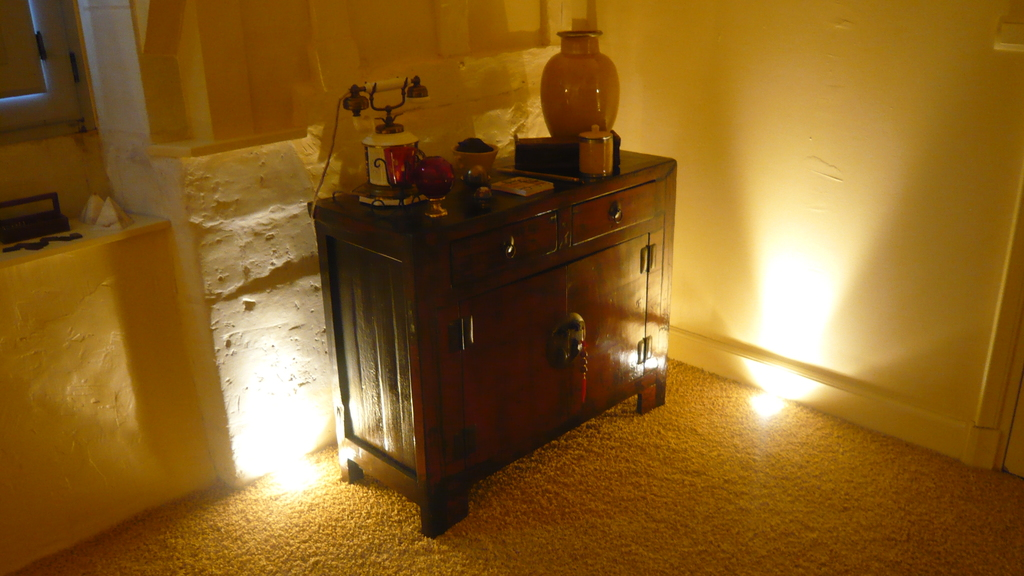Cabinetry: (305, 132, 676, 540)
